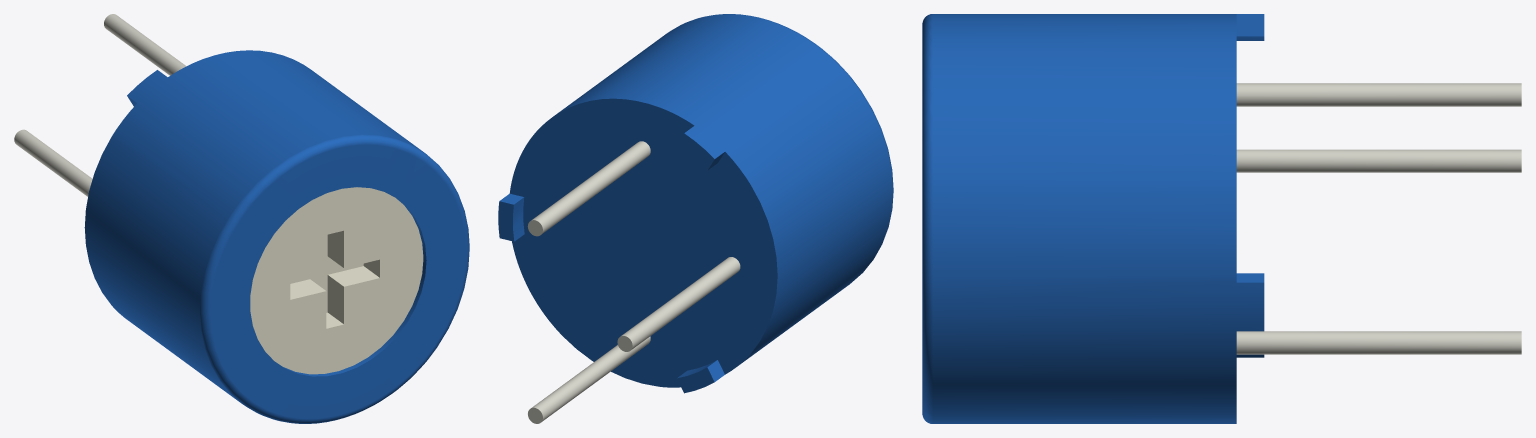
File: potentiometer-bourns-3339p-v.glb
The picture shows the model from 3 angles, left to right: view 1: azimuth 30°, elevation 25°; view 2: azimuth 150°, elevation 25°; view 3: azimuth 270°, elevation 25°; orthographic projection. The views are drawn at different scales.
Parts seen in each view (by area): view 1: PLASTIC-BLUE-01, PLASTIC-WHITE-01, PIN-01; view 2: PLASTIC-BLUE-01, PIN-01; view 3: PLASTIC-BLUE-01, PIN-01.
Part boxes in pixels (x1=…): PLASTIC-BLUE-01: x1=84, y1=50, x2=469, y2=423; PLASTIC-WHITE-01: x1=250, y1=187, x2=423, y2=374; PIN-01: x1=14, y1=14, x2=186, y2=196; PLASTIC-BLUE-01: x1=498, y1=14, x2=893, y2=393; PIN-01: x1=527, y1=141, x2=740, y2=423; PLASTIC-BLUE-01: x1=922, y1=14, x2=1264, y2=423; PIN-01: x1=1236, y1=83, x2=1521, y2=354.
Size of the model in its own units: 7.62 by 7.62 by 11.13.
